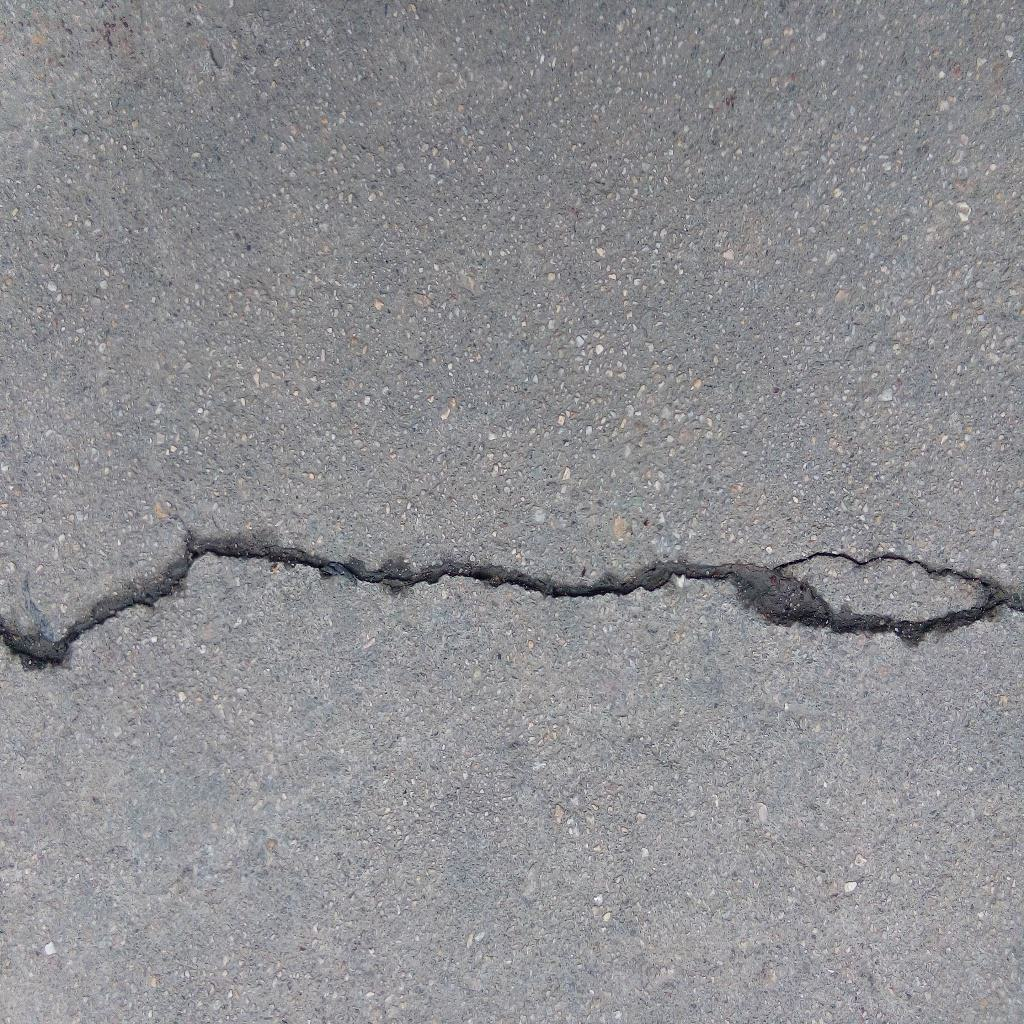Crack: (1, 534, 1024, 670)
